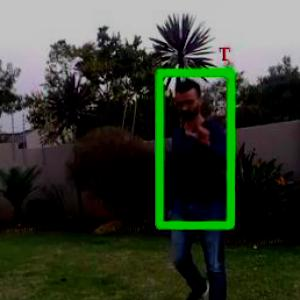land_hand: (189, 107, 216, 146)
